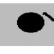correct: (16, 11, 45, 34)
